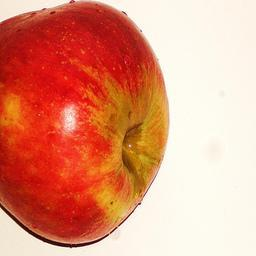apple: (1, 1, 172, 248)
